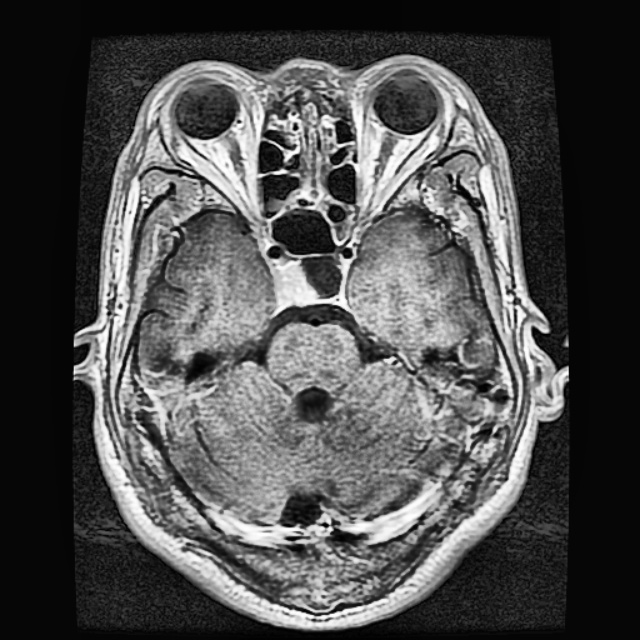Pituitary: (270, 258, 312, 310)
